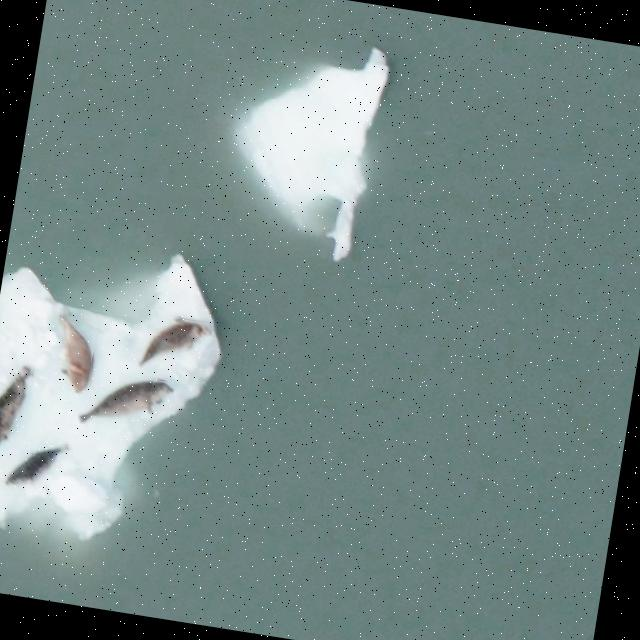seal: (129, 308, 216, 367), (76, 376, 178, 424), (2, 434, 71, 498), (0, 360, 36, 445), (57, 315, 95, 394)
